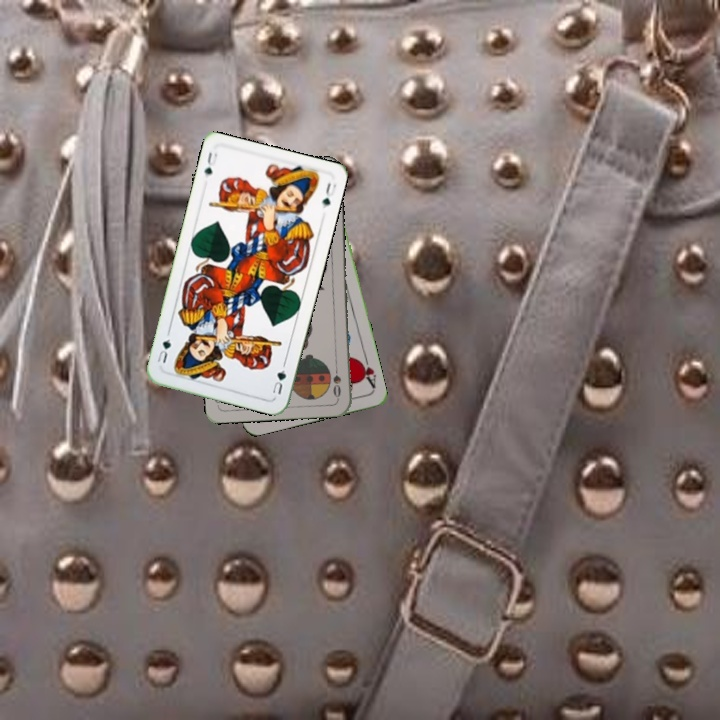GU: (200, 148, 220, 180), (269, 366, 289, 397)
HA: (355, 351, 379, 391)
SO: (329, 360, 343, 400)
